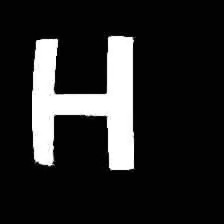LTR_H: (13, 23, 146, 181)
